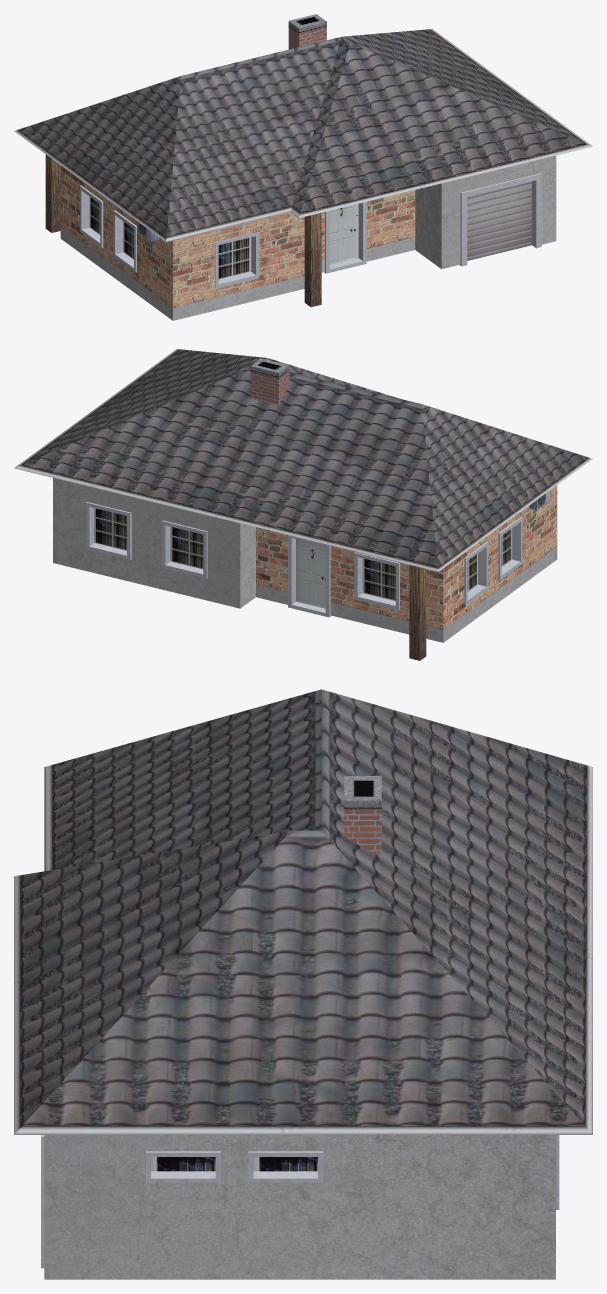
The model's file is h_house1.glb.
3 views of the same model, one above another, from view 1: azimuth 30°, elevation 25°; view 2: azimuth 150°, elevation 25°; view 3: azimuth 270°, elevation 25° (orthographic). The views are drawn at different scales.
Parts seen in each view (by area): view 1: house1, garage_door, door, window, column, window3, column2, window2, chimney; view 2: house1, door2, window5, window4, window6, column2, chimney, window2, window3; view 3: house1, chimney, window_bathroom2, window_bathroom.
Part boxes in pixels (left/top/right/bottom): house1: left=14, top=29, right=592, bottom=320; garage_door: left=460, top=173, right=541, bottom=266; door: left=324, top=202, right=366, bottom=273; window: left=215, top=231, right=259, bottom=288; column: left=304, top=213, right=321, bottom=307; window3: left=79, top=185, right=103, bottom=247; column2: left=45, top=154, right=60, bottom=232; window2: left=113, top=210, right=136, bottom=272; chimney: left=288, top=14, right=326, bottom=49; house1: left=14, top=349, right=592, bottom=642; door2: left=288, top=535, right=331, bottom=617; window5: left=162, top=520, right=207, bottom=578; window4: left=354, top=552, right=399, bottom=610; window6: left=86, top=502, right=131, bottom=559; column2: left=409, top=565, right=426, bottom=660; chimney: left=250, top=358, right=289, bottom=405; window2: left=498, top=517, right=522, bottom=580; window3: left=464, top=542, right=488, bottom=605; house1: left=14, top=689, right=592, bottom=1279; chimney: left=344, top=776, right=381, bottom=857; window_bathroom2: left=248, top=1151, right=323, bottom=1182; window_bathroom: left=146, top=1151, right=220, bottom=1182.
Bounding box in the file's own units: 4.11 × 1.87 × 2.73.
1 material, 1 textured.
